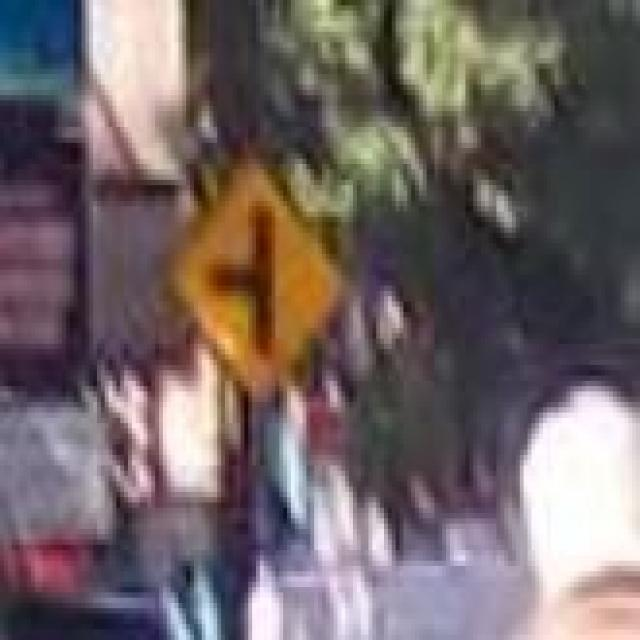traffic sign: (179, 153, 346, 397)
